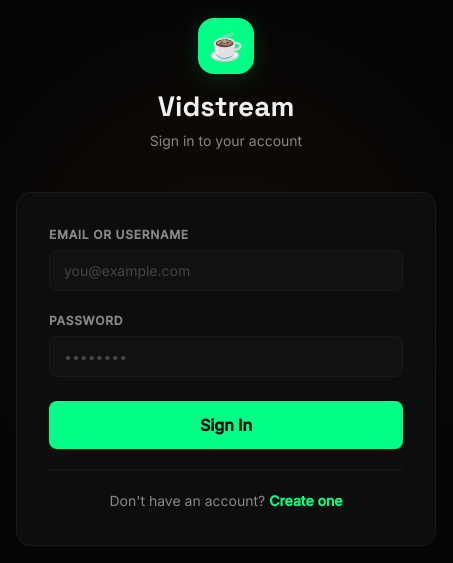
Test: Login component › disables submit button while loading
Type "x@x.com" into the field with placeholder "you@example.com" at (226, 271), box [49,250,403,291]
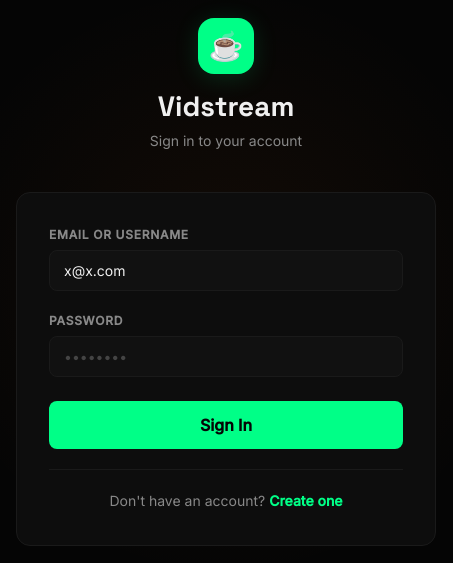
Type "pass1234" into the password field with placeholder "••••••••" at (226, 357), box [49,336,403,378]
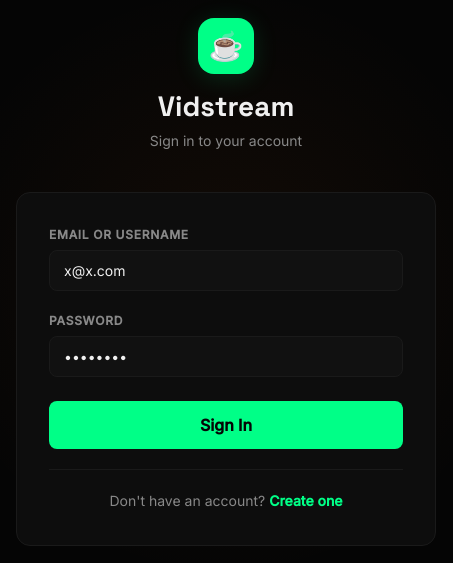
Click the button "Sign In" at (226, 426), box [49,402,403,450]
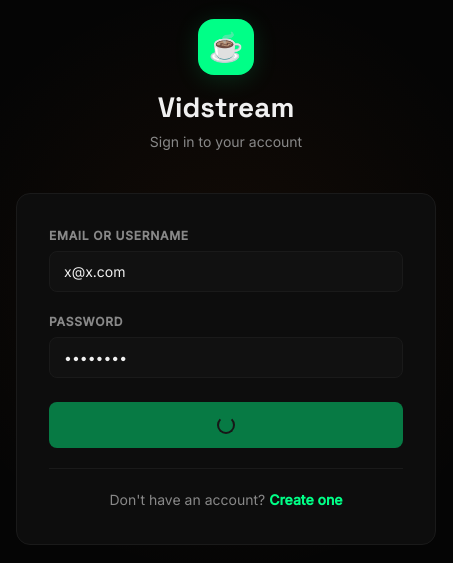
expect the button named "sign in" is disabled: met, box [49,402,403,448]
